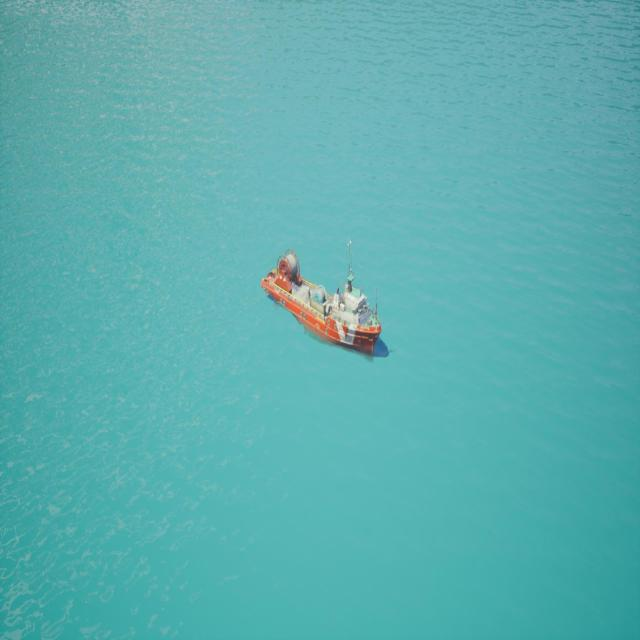tug boat: (265, 213, 383, 395)
